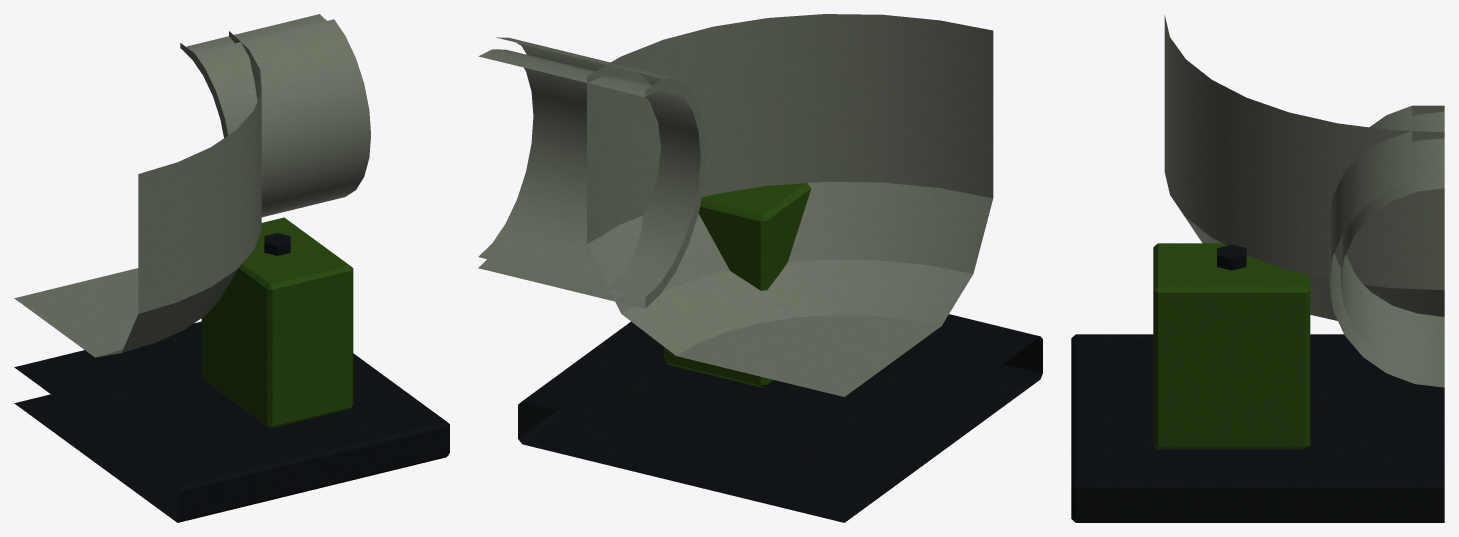
File: cell_6.obj
3 renders of one model, left to right at view 1: azimuth 30°, elevation 25°; view 2: azimuth 150°, elevation 25°; view 3: azimuth 270°, elevation 25°, orthographic. The views are drawn at different scales.
Parts seen in each view (by area): view 1: cell_6; view 2: cell_6; view 3: cell_6.
Part boxes in pixels (<box>): cell_6: <box>14,14,449,522</box>; cell_6: <box>478,14,1042,522</box>; cell_6: <box>1071,15,1444,522</box>.
Bounding box in the file's own units: 1 × 1 × 0.9375.
